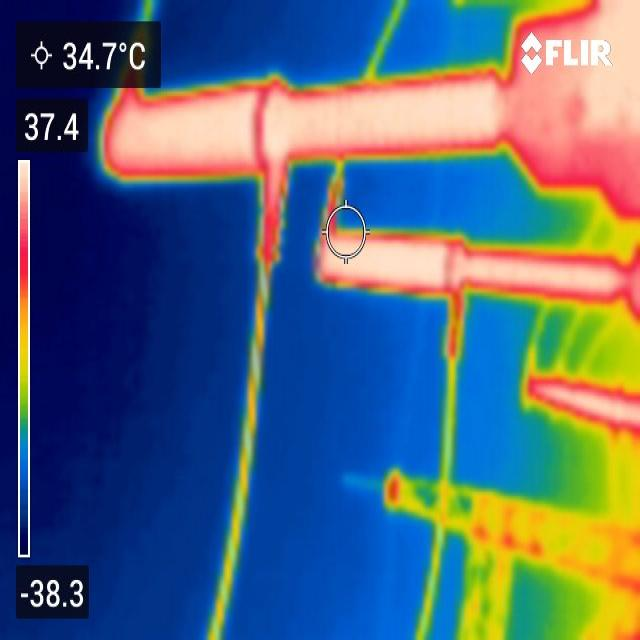Zona_Extrema: (117, 69, 637, 207), (324, 243, 638, 300), (535, 380, 639, 427)
